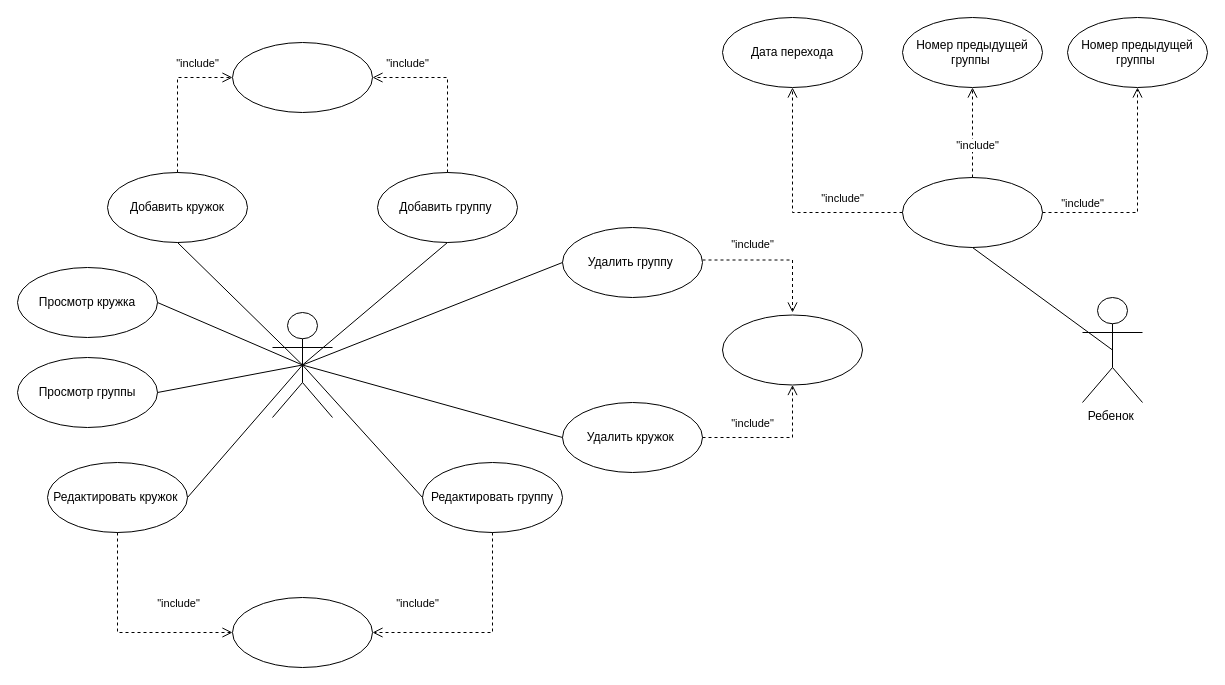
Some shapes in this 1225 by 685 pixel diagram are drawn without their labels. Here are the shapes that lost their labels. From the top down, the centre of each, then its label:
point 302,77: Заполнение данных
point 972,212: Замена группы
point 302,365: Преподаватель
point 792,349: Удаление данных
point 302,632: Редактирование данных
